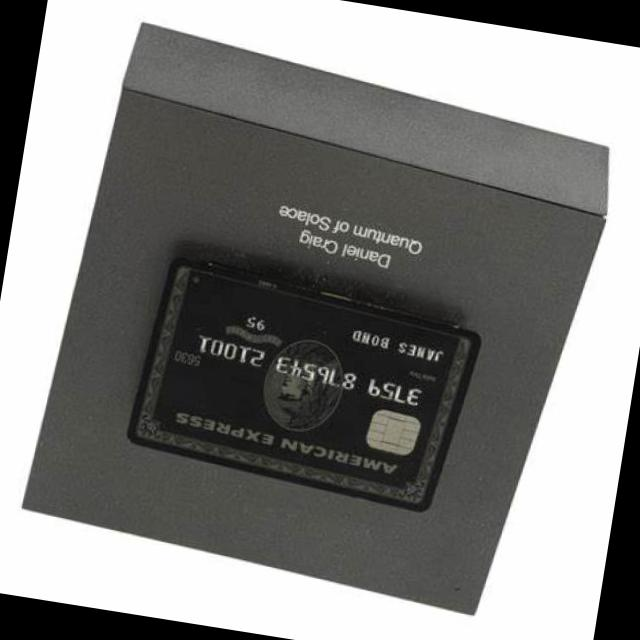card: (110, 242, 492, 524)
